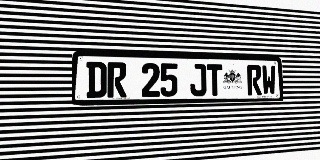2: (142, 63, 160, 97)
5: (160, 63, 178, 97)
D: (86, 62, 107, 98)
J: (190, 64, 206, 96)
R: (107, 62, 127, 98), (247, 65, 262, 95)
T: (207, 64, 223, 96)
W: (262, 65, 276, 95)
